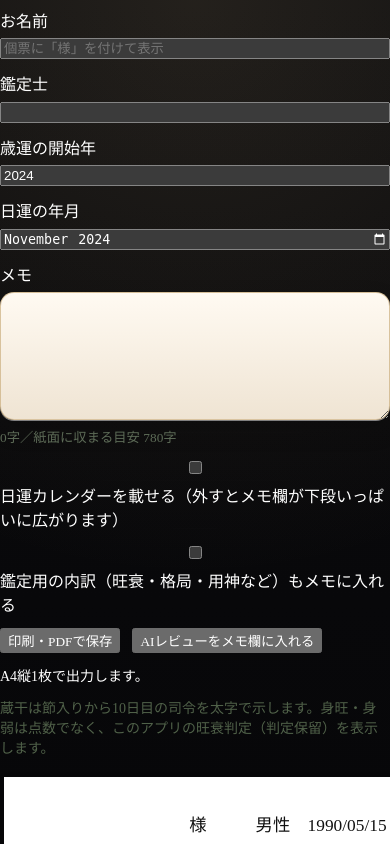
it: 鑑定個票 › shows the server reason when the circuit cannot ground its answer, and stays usable for printing
Click the button "AIレビューをメモ欄に入れる": click(227, 641) [132, 628, 322, 654]
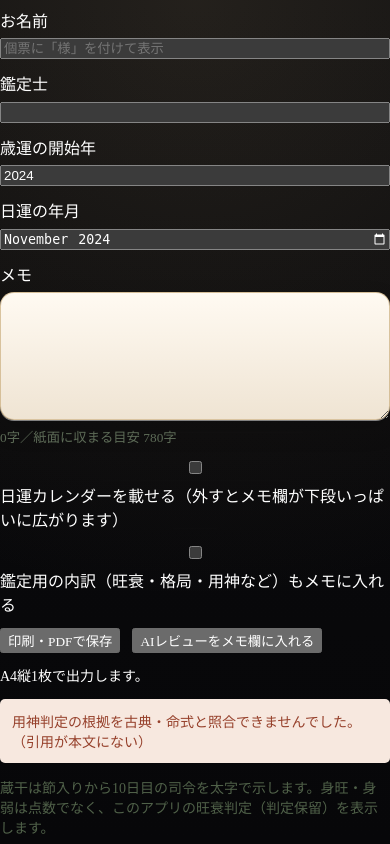
expect the text box labelled "メモ" is empty: met, box [0, 292, 389, 420]
expect the message shows "引用が本文にない": met, box [12, 716, 361, 750]
